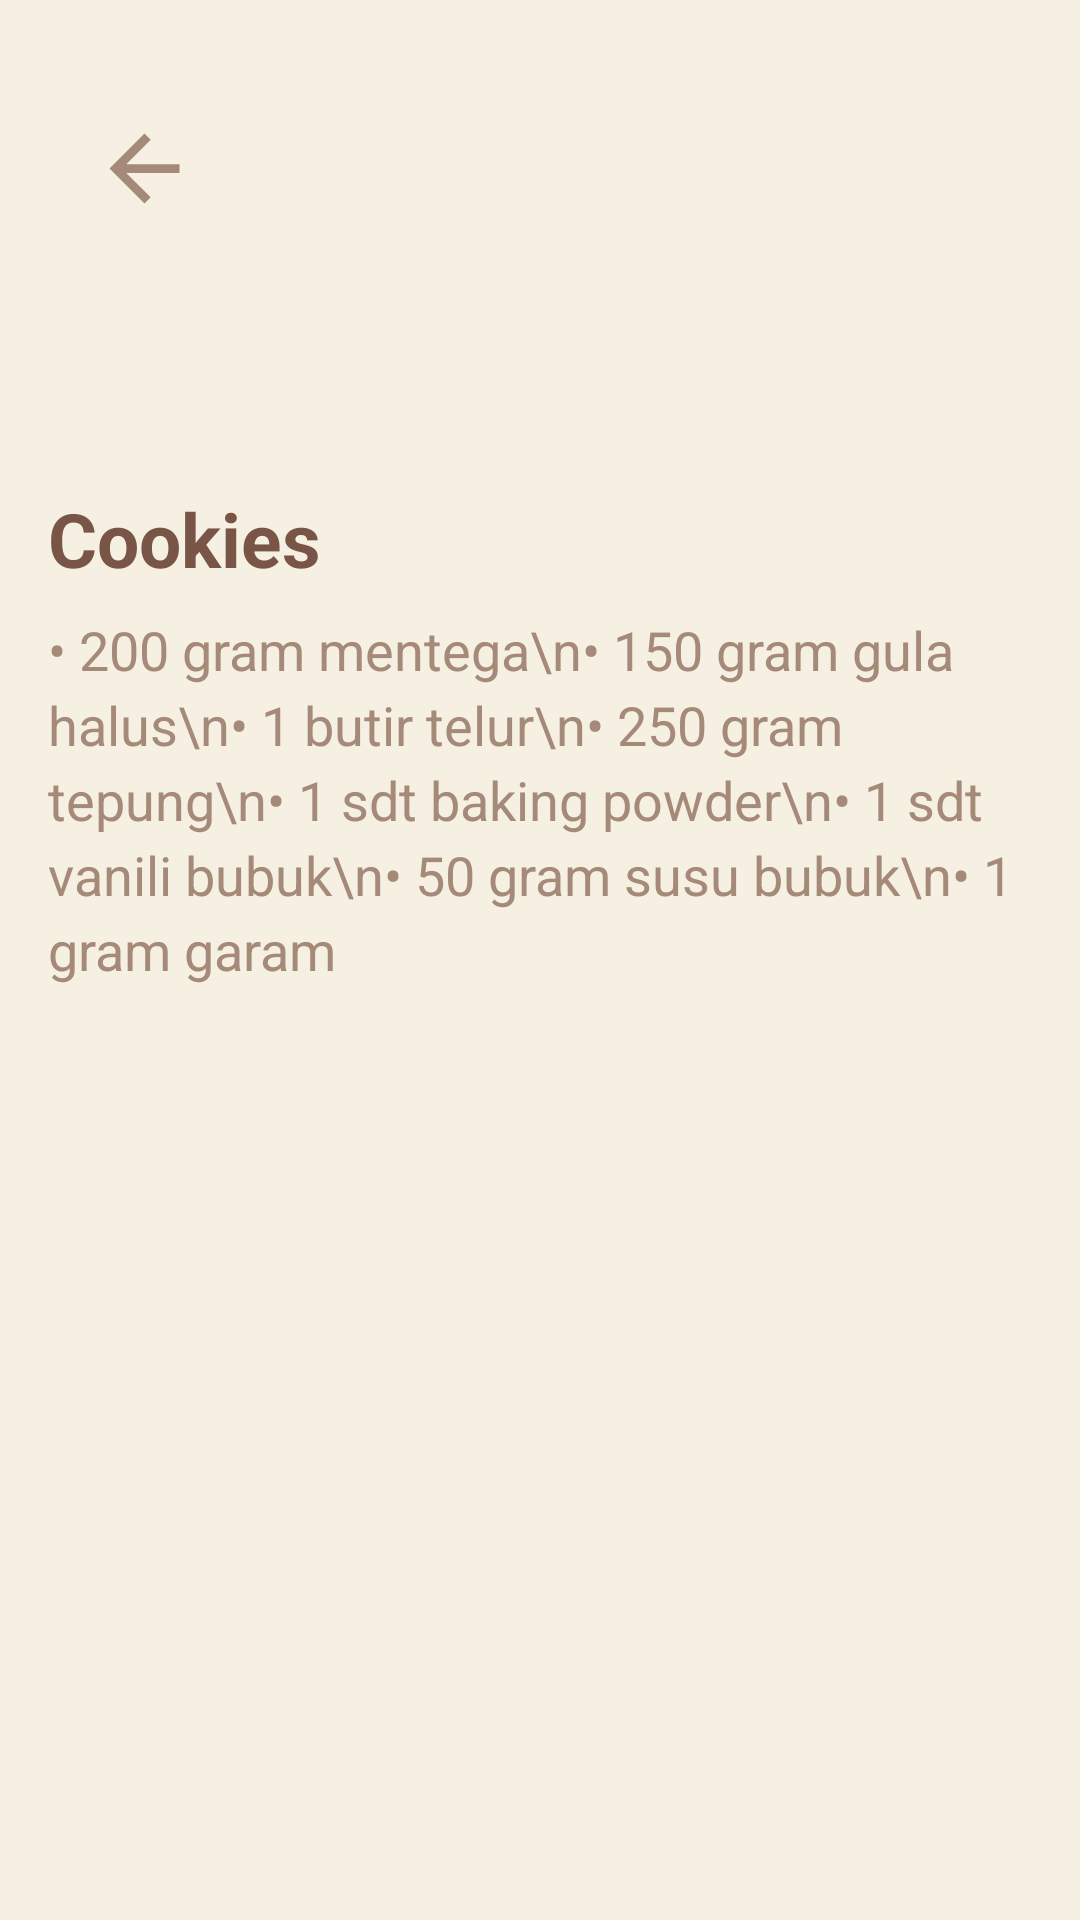

Named icons in this screenshot (1080 × 1920) and their bounding boxes, (x1, y1, x2, y2):
Back Button: (109, 133, 180, 204)
